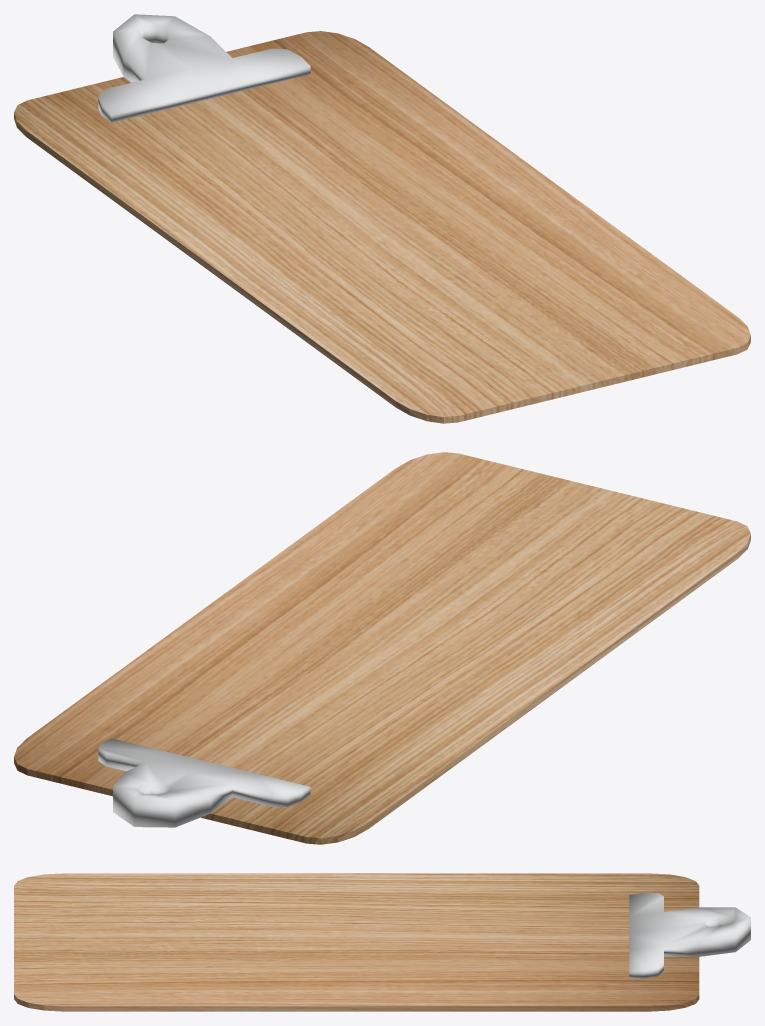
Rendered from Portapapeles1.fbx.
3 renders of one model, top to bottom at view 1: azimuth 30°, elevation 25°; view 2: azimuth 150°, elevation 25°; view 3: azimuth 270°, elevation 25°, orthographic. The views are drawn at different scales.
Visible parts, largest first — view 1: Cube.024; view 2: Cube.024; view 3: Cube.024.
Part boxes in pixels (<box>): Cube.024: <box>14,14,750,423</box>; Cube.024: <box>14,452,750,844</box>; Cube.024: <box>14,873,750,1011</box>.
Size of the model in its own units: 200 by 19.44 by 469.
Materials: 2 (1 with a texture image).
